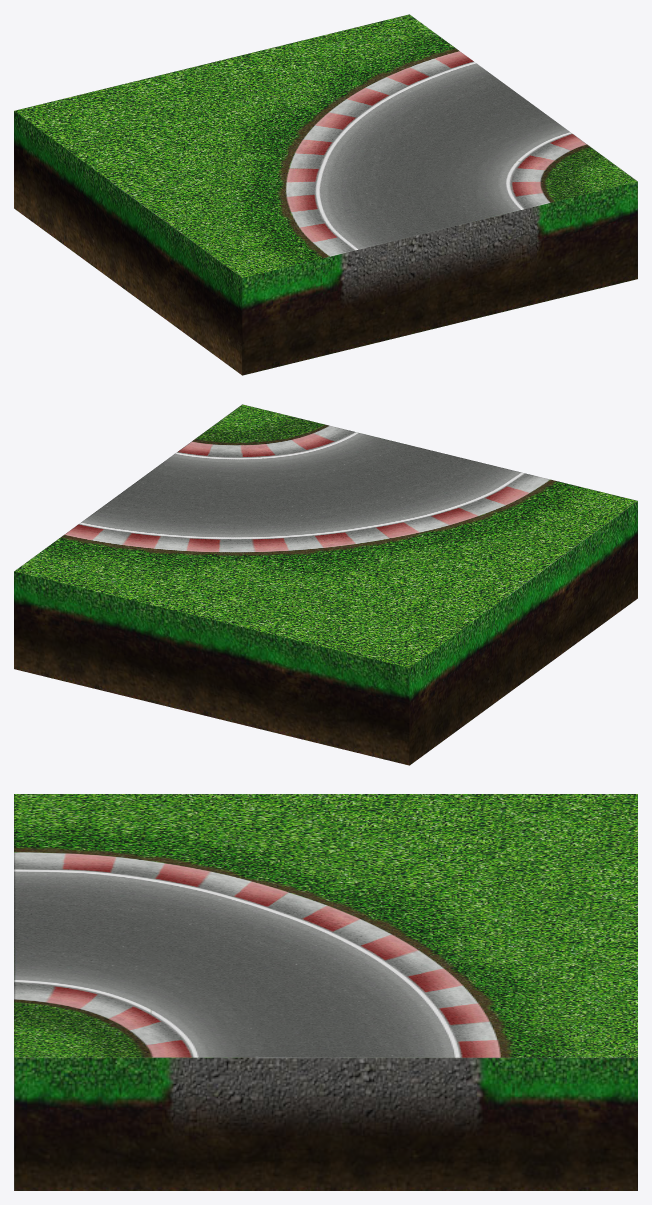
Rendered from road to right.fbx.
3 views of the same model, one above another, from view 1: azimuth 30°, elevation 25°; view 2: azimuth 150°, elevation 25°; view 3: azimuth 270°, elevation 25° (orthographic). The views are drawn at different scales.
Parts seen in each view (by area): view 1: road to right; view 2: road to right; view 3: road to right.
Boxes of the visible parts, <box> form: road to right: <box>14,14,637,375</box>; road to right: <box>14,404,637,765</box>; road to right: <box>14,794,637,1190</box>.
Bounding box in the file's own units: 390 × 91.83 × 390.
